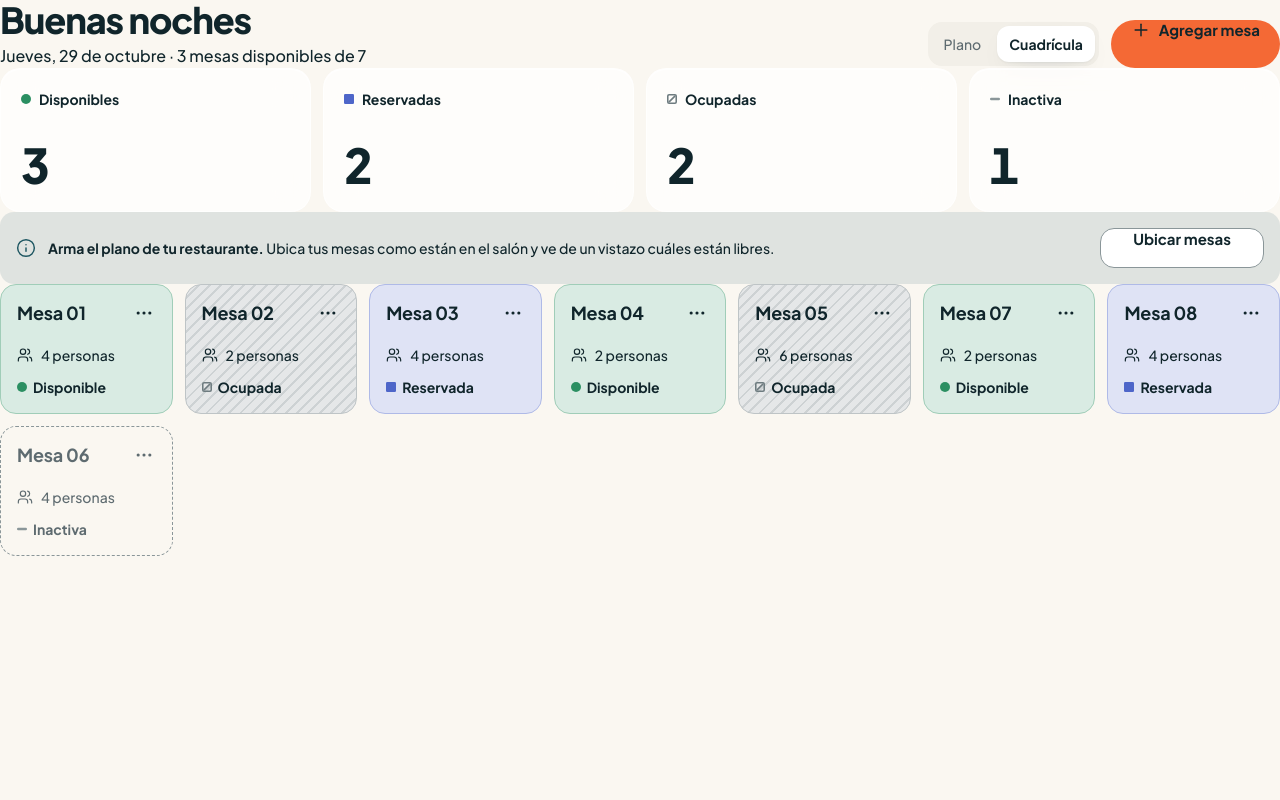
TablesPage · cambiar estado › tapping a card opens its status picker next to it; tapping it again closes it
This screenshot has width=1280, height=800.
Expected: the list named "Mesas" is shown, [0, 284, 1279, 556]
Click the button "Mesa 04".
click(607, 313)  # box [571, 301, 644, 325]
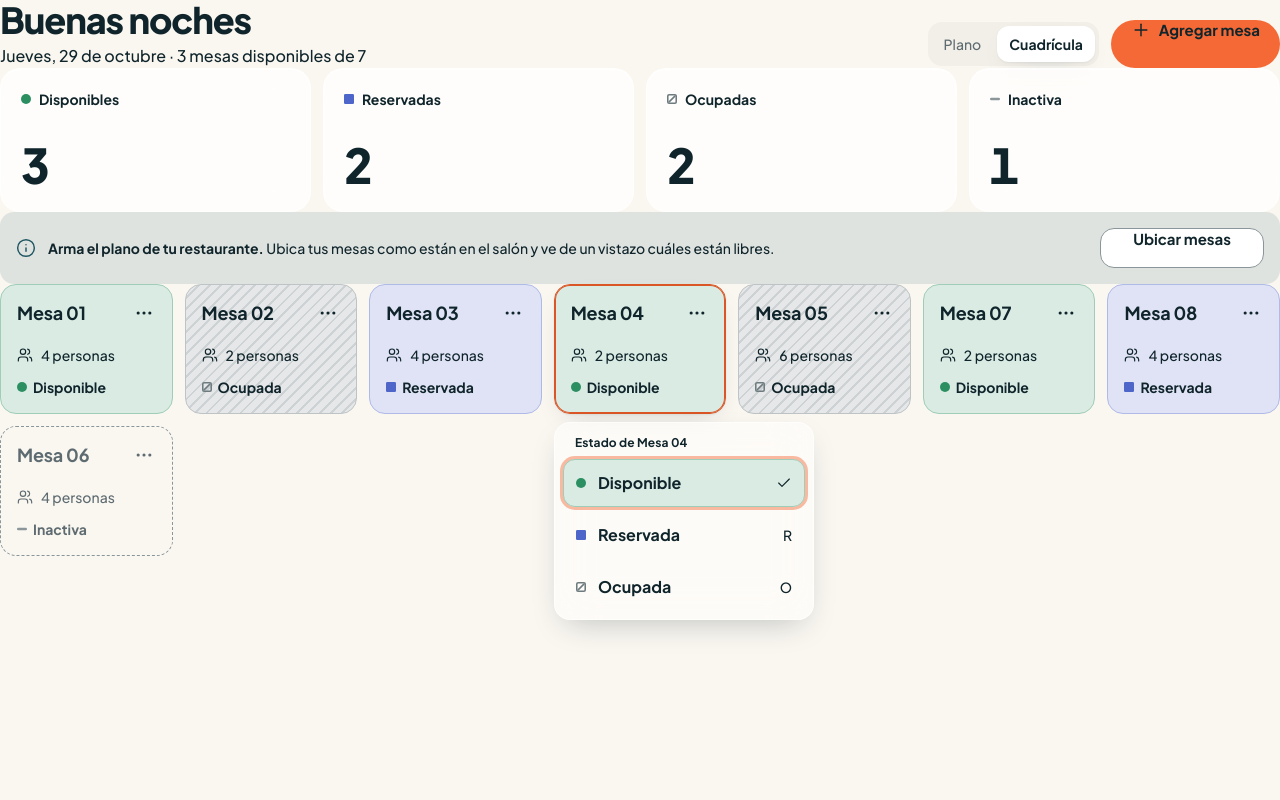
Click the button "Mesa 04".
click(607, 313)  # box [571, 301, 644, 325]
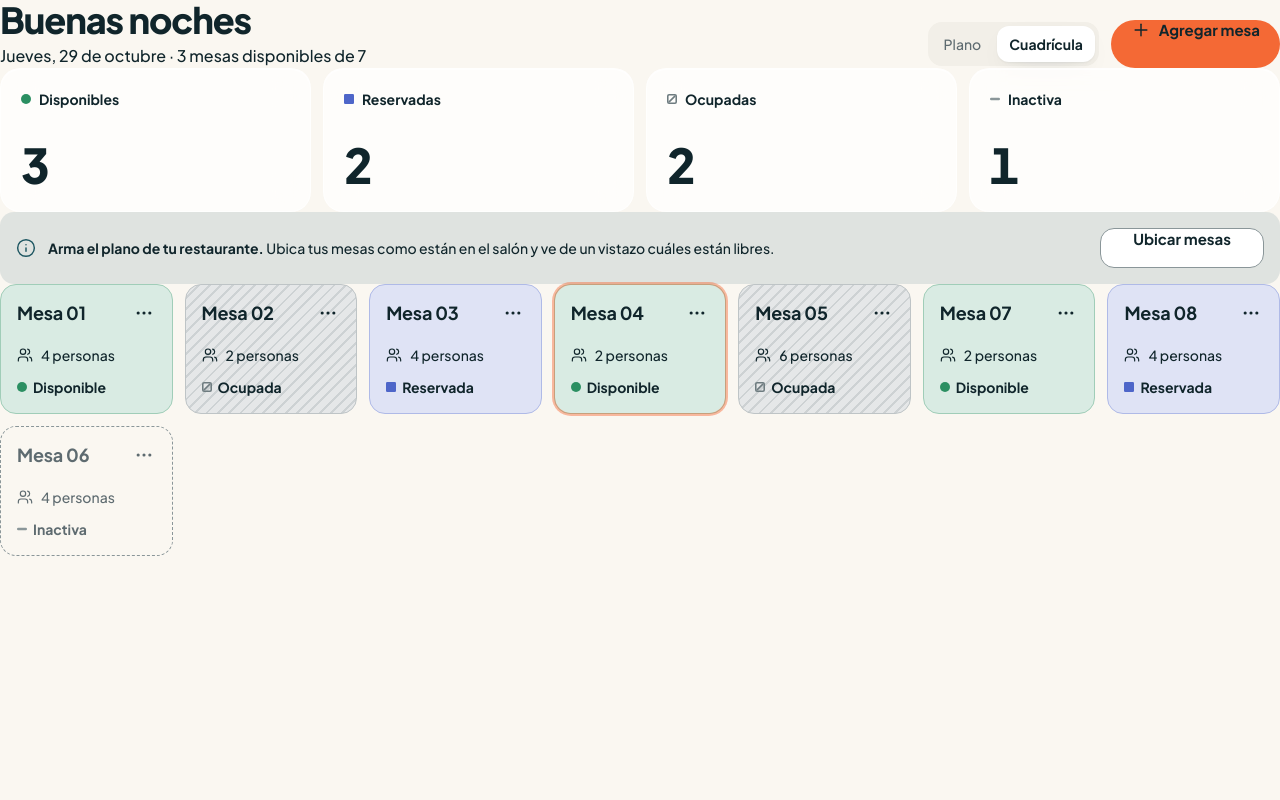
Expected: the text "Estado de" is gone
